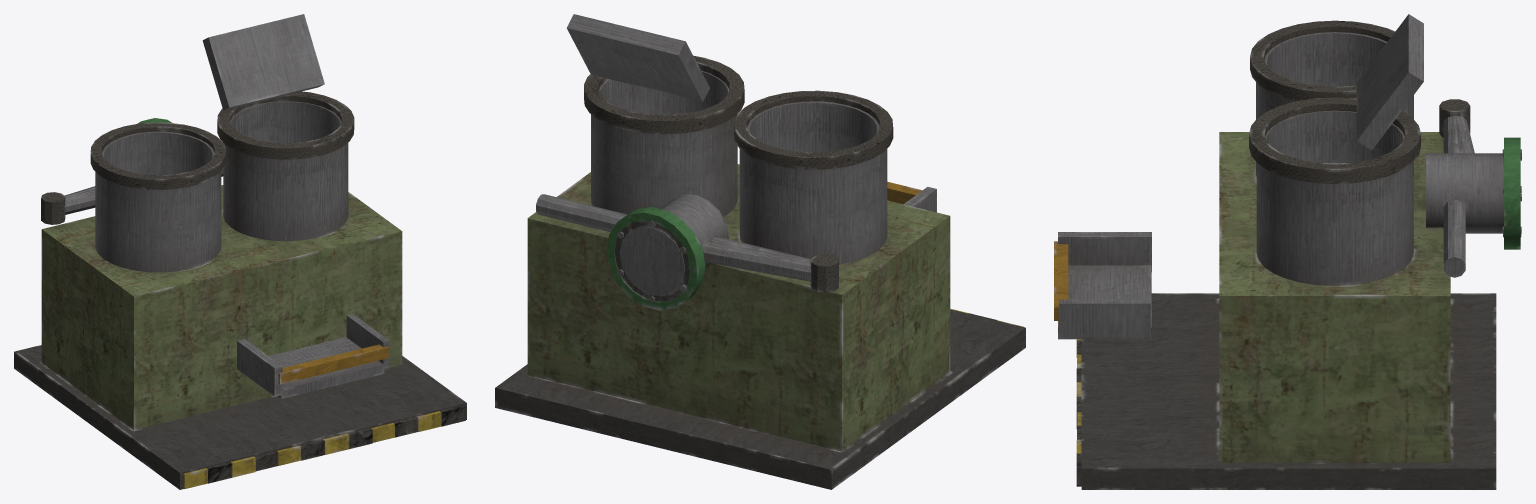
File: feCookerIndustrial_HD.fbx
The picture shows the model from 3 angles, left to right: view 1: azimuth 30°, elevation 25°; view 2: azimuth 150°, elevation 25°; view 3: azimuth 270°, elevation 25°; orthographic projection. The views are drawn at different scales.
Visible parts, largest first — view 1: feCookerIndustrial_Base; view 2: feCookerIndustrial_Base; view 3: feCookerIndustrial_Base.
Boxes of the visible parts, x1,y1,x2,y2 form: feCookerIndustrial_Base: (14, 14, 466, 489); feCookerIndustrial_Base: (495, 14, 1025, 489); feCookerIndustrial_Base: (1054, 14, 1521, 489).
Bounding box in the file's own units: 0.9012 × 0.9544 × 1.02.
2 materials, 1 textured.
